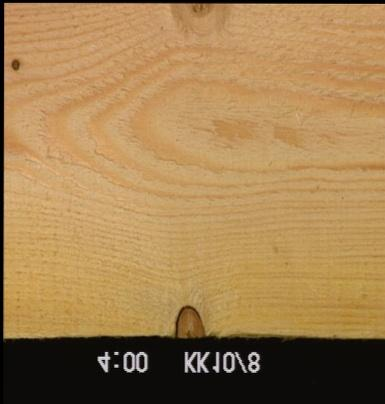dry_knot: (8, 55, 21, 73)
edge_knot: (165, 1, 232, 30), (171, 303, 205, 337)
